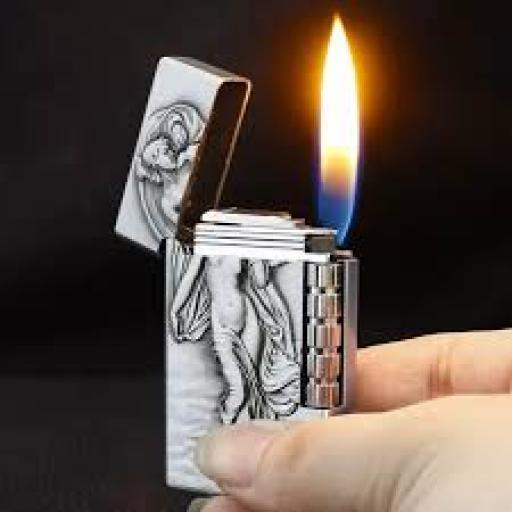fire: (300, 11, 391, 246)
